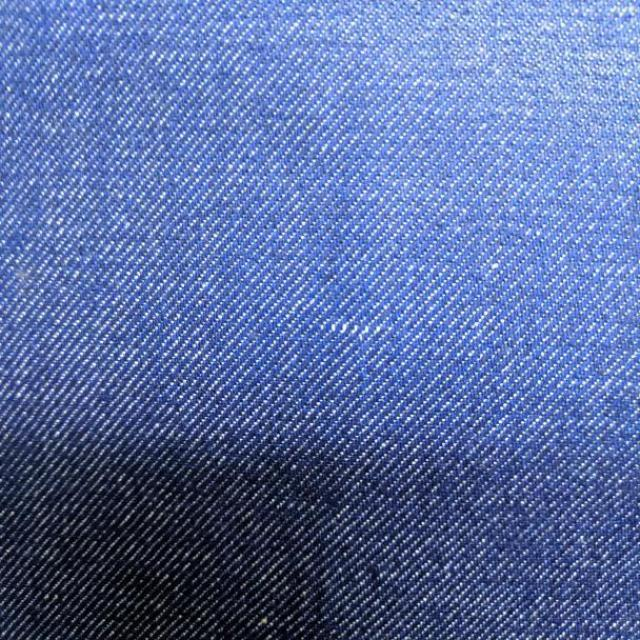Knot: (320, 320, 385, 342)
